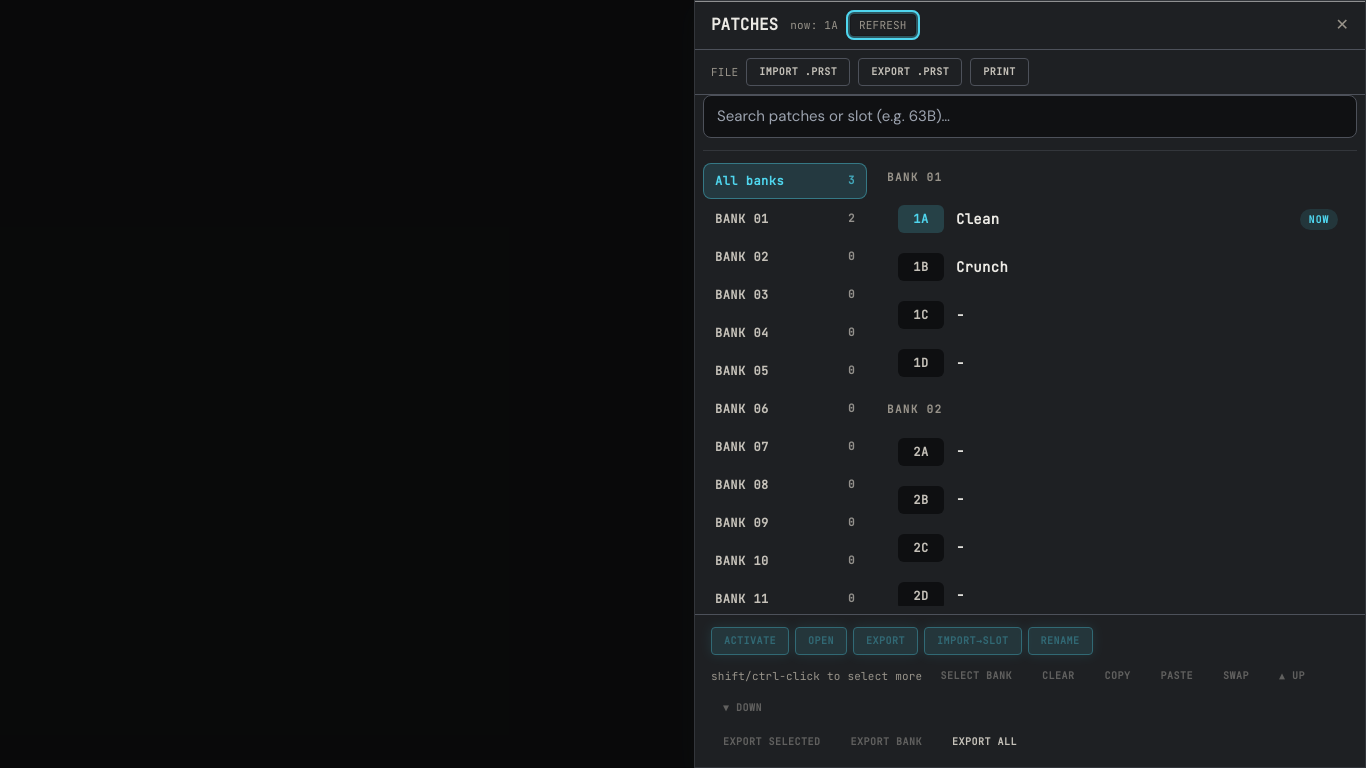
it: PatchManagerSheet: selection and arrange › shift-clicking a second row selects the range between them
Click the text "Clean" at (978, 218), box [956,210,999,228]
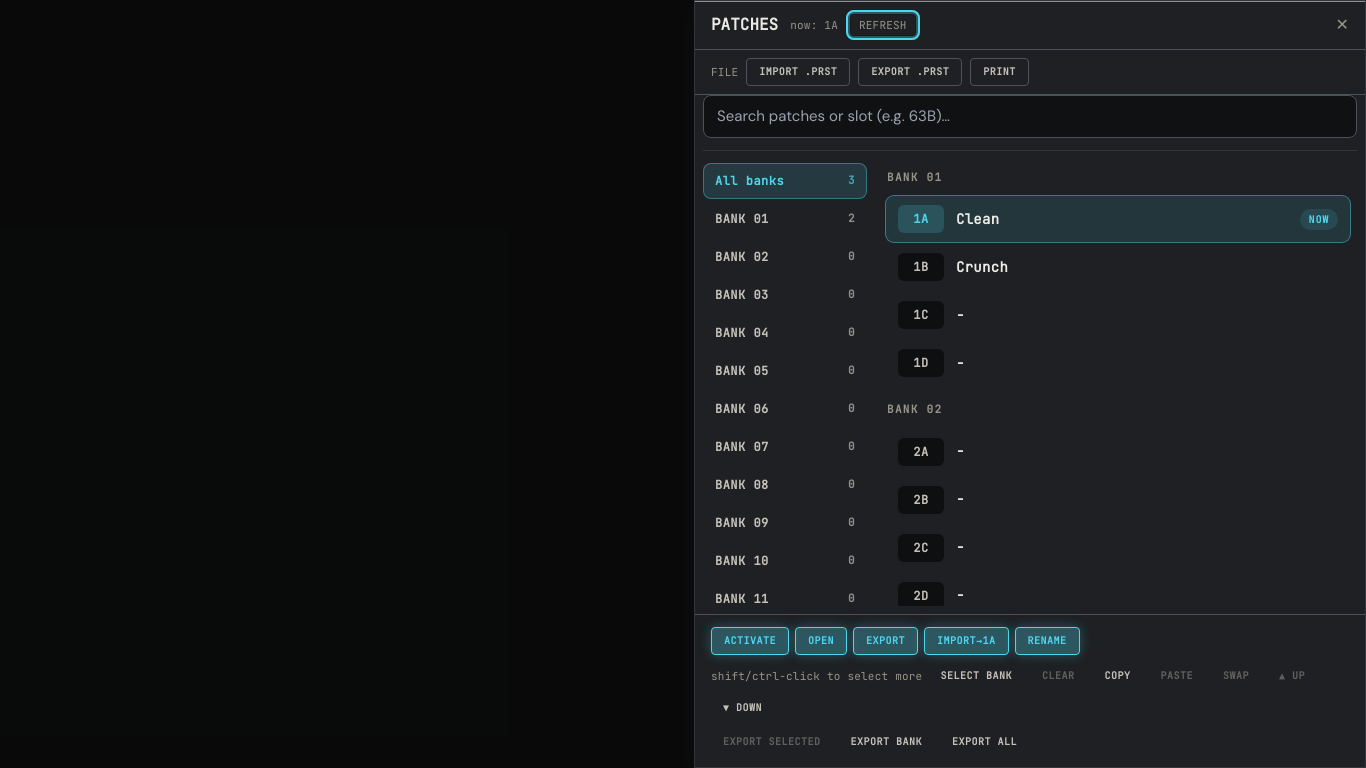
Click the text "Crunch" at (982, 266), box [956,258,1008,276]
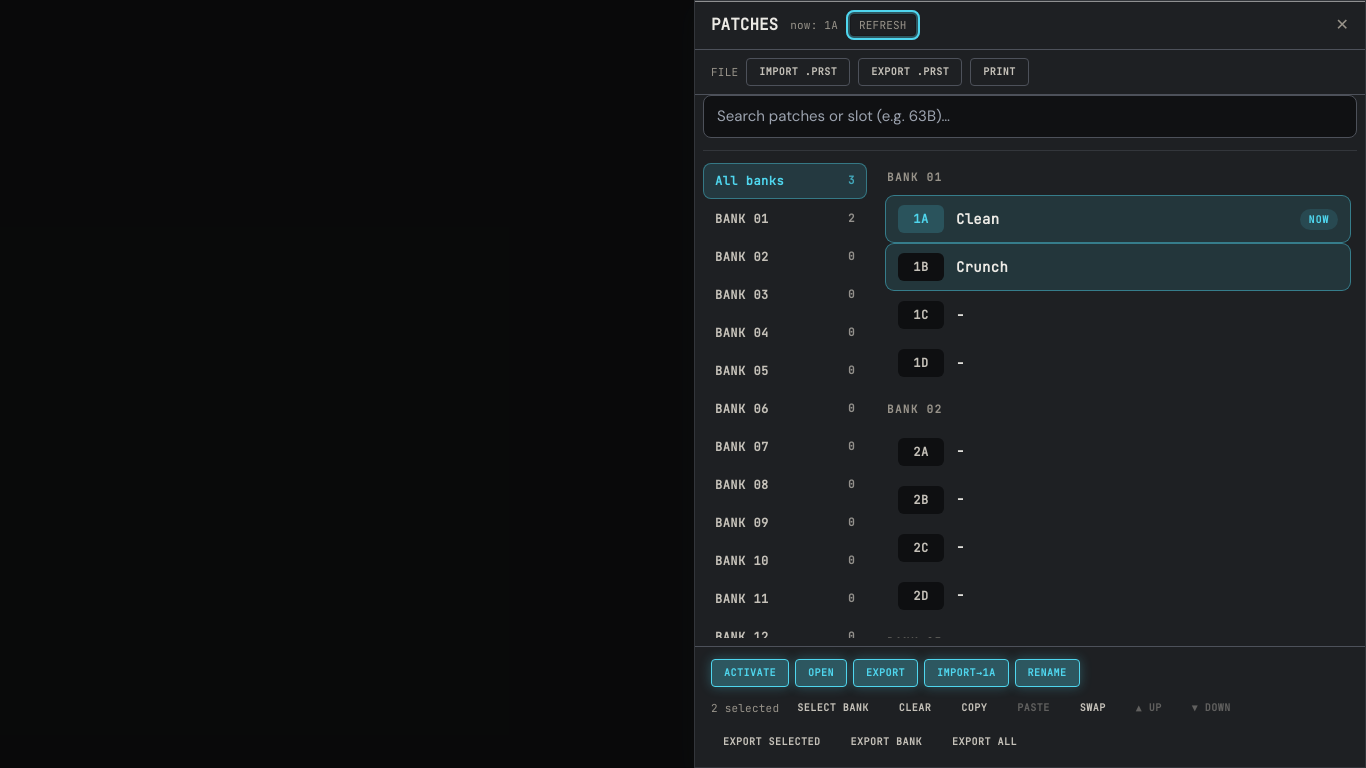
Expected: the message reads "2 selected", [711,701,779,715]
